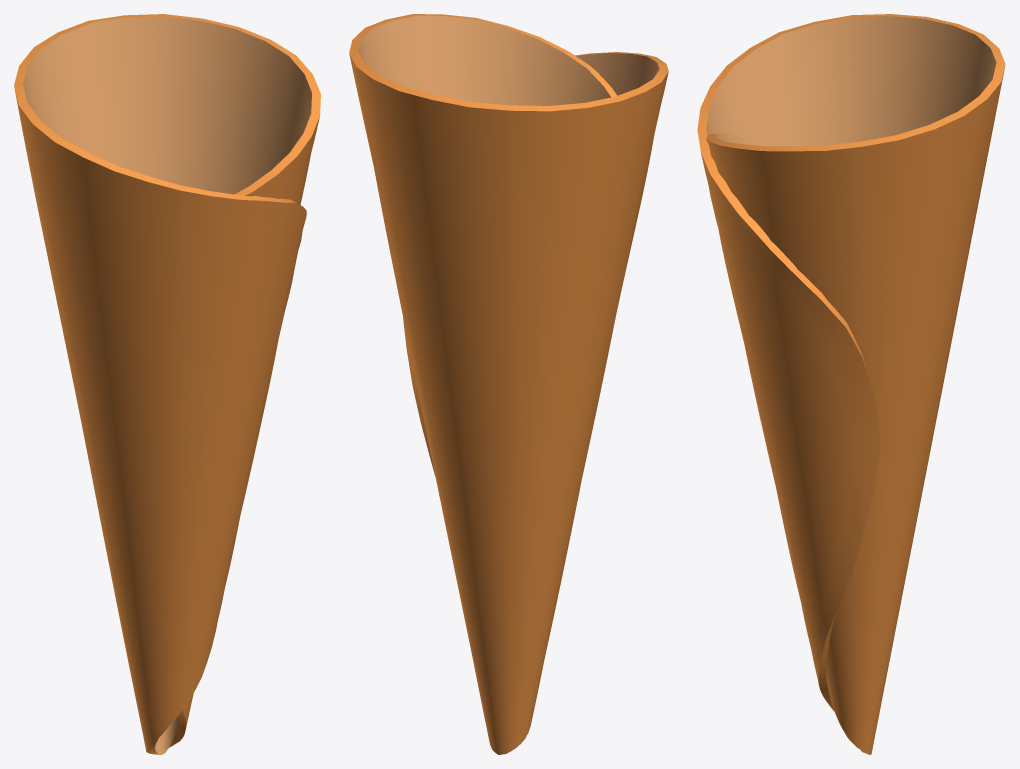
File: Cone Ice Cream A.fbx
The picture shows the model from 3 angles, left to right: view 1: azimuth 30°, elevation 25°; view 2: azimuth 150°, elevation 25°; view 3: azimuth 270°, elevation 25°; orthographic projection. The views are drawn at different scales.
Visible parts, largest first — view 1: Cone Ice Cream A; view 2: Cone Ice Cream A; view 3: Cone Ice Cream A.
Boxes of the visible parts, x1=… form: Cone Ice Cream A: x1=14, y1=14, x2=320, y2=754; Cone Ice Cream A: x1=349, y1=14, x2=668, y2=754; Cone Ice Cream A: x1=697, y1=14, x2=1005, y2=754.
Bounding box in the file's own units: 0.3369 × 0.824 × 0.3332.
